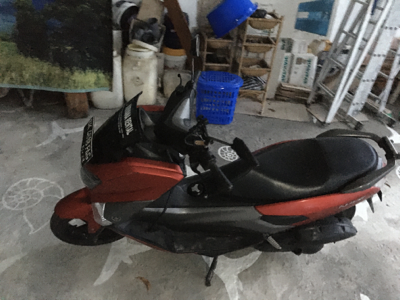moto: (50, 76, 393, 262)
